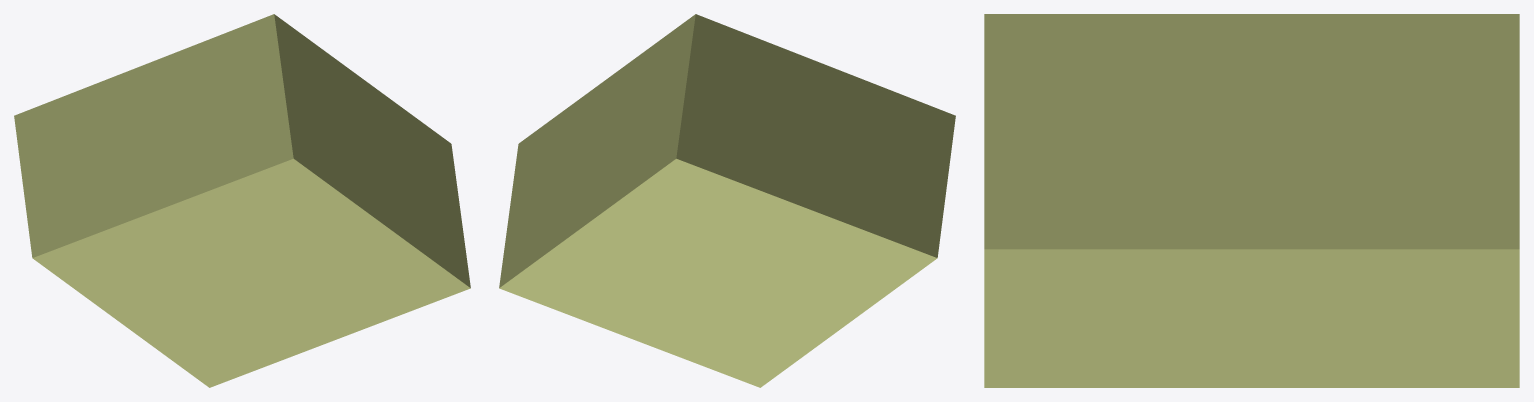
The picture shows the model from 3 angles, left to right: view 1: azimuth 30°, elevation 25°; view 2: azimuth 150°, elevation 25°; view 3: azimuth 270°, elevation 25°; orthographic projection. The views are drawn at different scales.
Visible parts, largest first — view 1: 0_1_2_0_3_3_0_3_3_2_0; view 2: 0_1_2_0_3_3_0_3_3_2_0; view 3: 0_1_2_0_3_3_0_3_3_2_0.
Boxes of the visible parts, <box> form: 0_1_2_0_3_3_0_3_3_2_0: <box>14,14,470,387</box>; 0_1_2_0_3_3_0_3_3_2_0: <box>499,14,955,387</box>; 0_1_2_0_3_3_0_3_3_2_0: <box>984,14,1519,387</box>.
Size of the model in its own units: 8.2 by 5.19 by 9.
